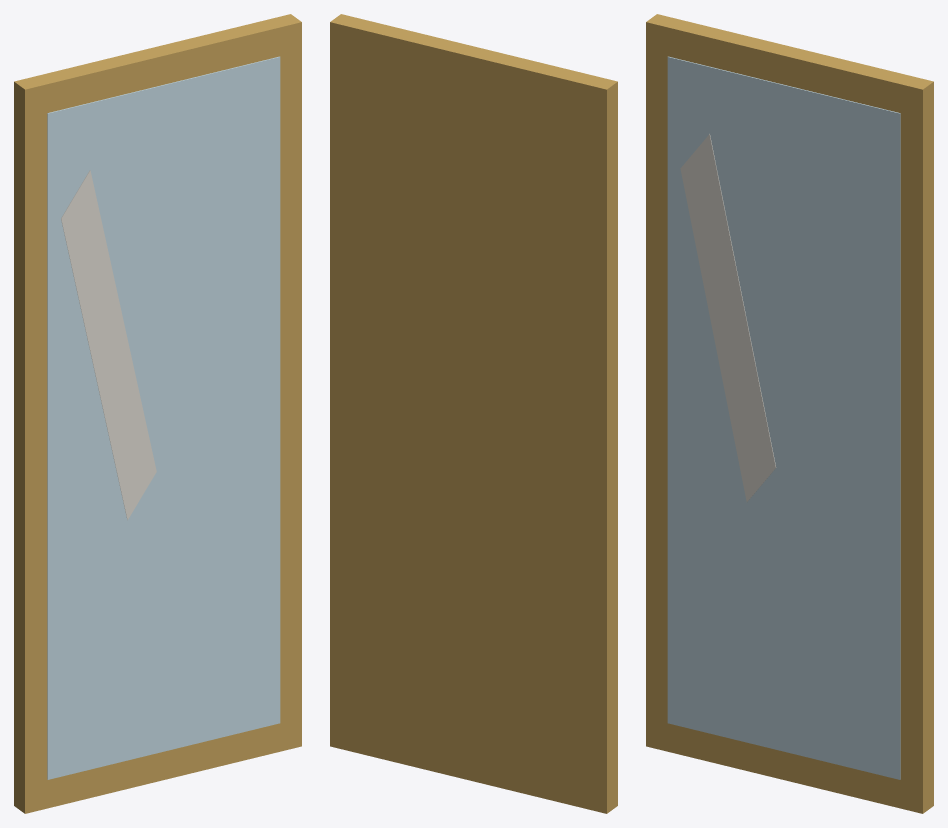
The model's file is mirror.glb.
3 renders of one model, left to right at view 1: azimuth 30°, elevation 25°; view 2: azimuth 150°, elevation 25°; view 3: azimuth 330°, elevation 25°, orthographic.
Parts seen in each view (by area): view 1: mirror; view 2: mirror; view 3: mirror.
Boxes of the visible parts, x1,y1,x2,y2 form: mirror: [14, 14, 301, 813]; mirror: [330, 14, 617, 813]; mirror: [646, 14, 933, 813].
Size of the model in its own units: 40 by 100 by 3.
